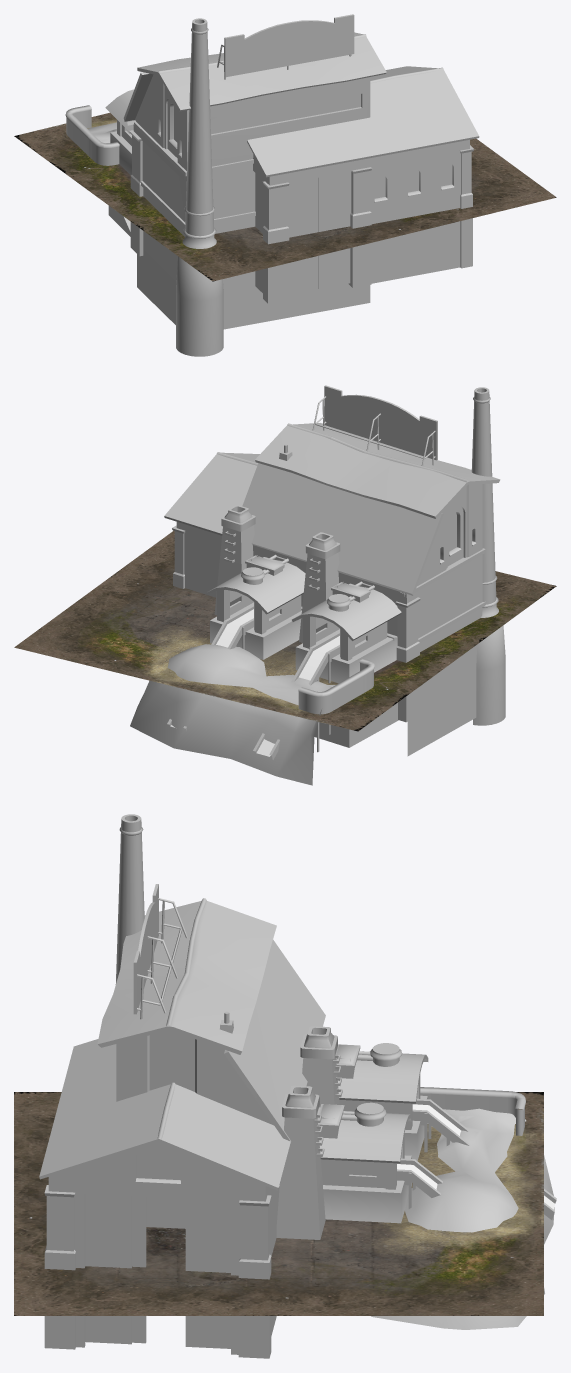
The model's file is glass.gltf.
3 views of the same model, one above another, from view 1: azimuth 30°, elevation 25°; view 2: azimuth 150°, elevation 25°; view 3: azimuth 270°, elevation 25° (orthographic). The views are drawn at different scales.
Visible parts, largest first — view 1: _lod0, ground; view 2: _lod0, ground; view 3: _lod0, ground.
Part boxes in pixels (x1,y1,x2,y2): _lod0: [65, 14, 479, 356]; ground: [14, 112, 556, 281]; _lod0: [130, 385, 505, 785]; ground: [14, 530, 556, 731]; _lod0: [39, 814, 556, 1358]; ground: [14, 1092, 543, 1315].
Size of what is drawn, in the model's own units: 4.2 by 3.79 by 4.3.
